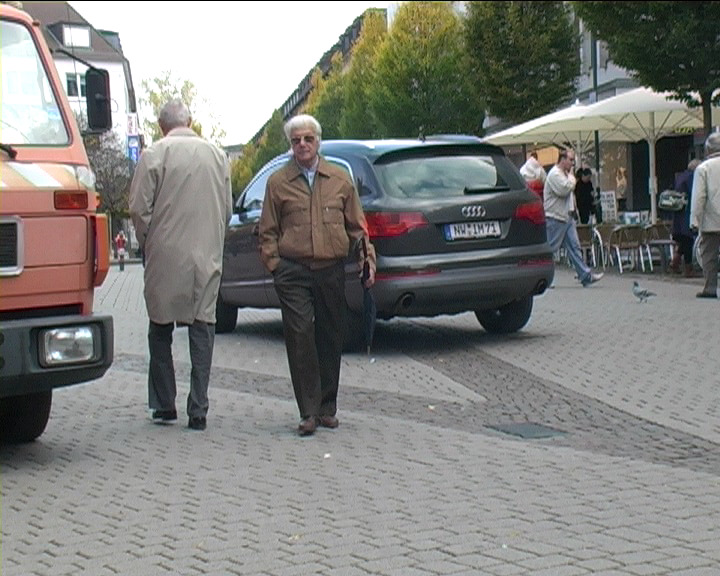undeflect: (264, 113, 361, 210)
